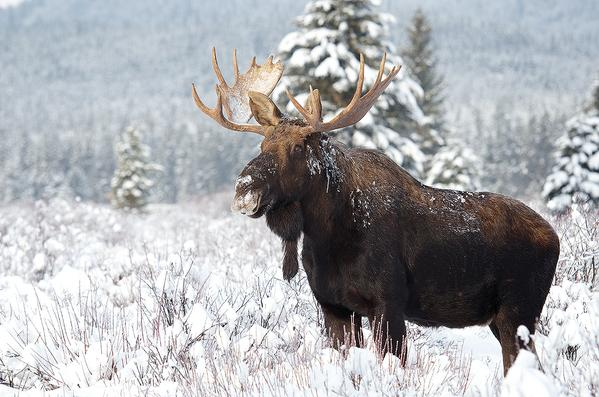moose: (182, 35, 564, 379)
